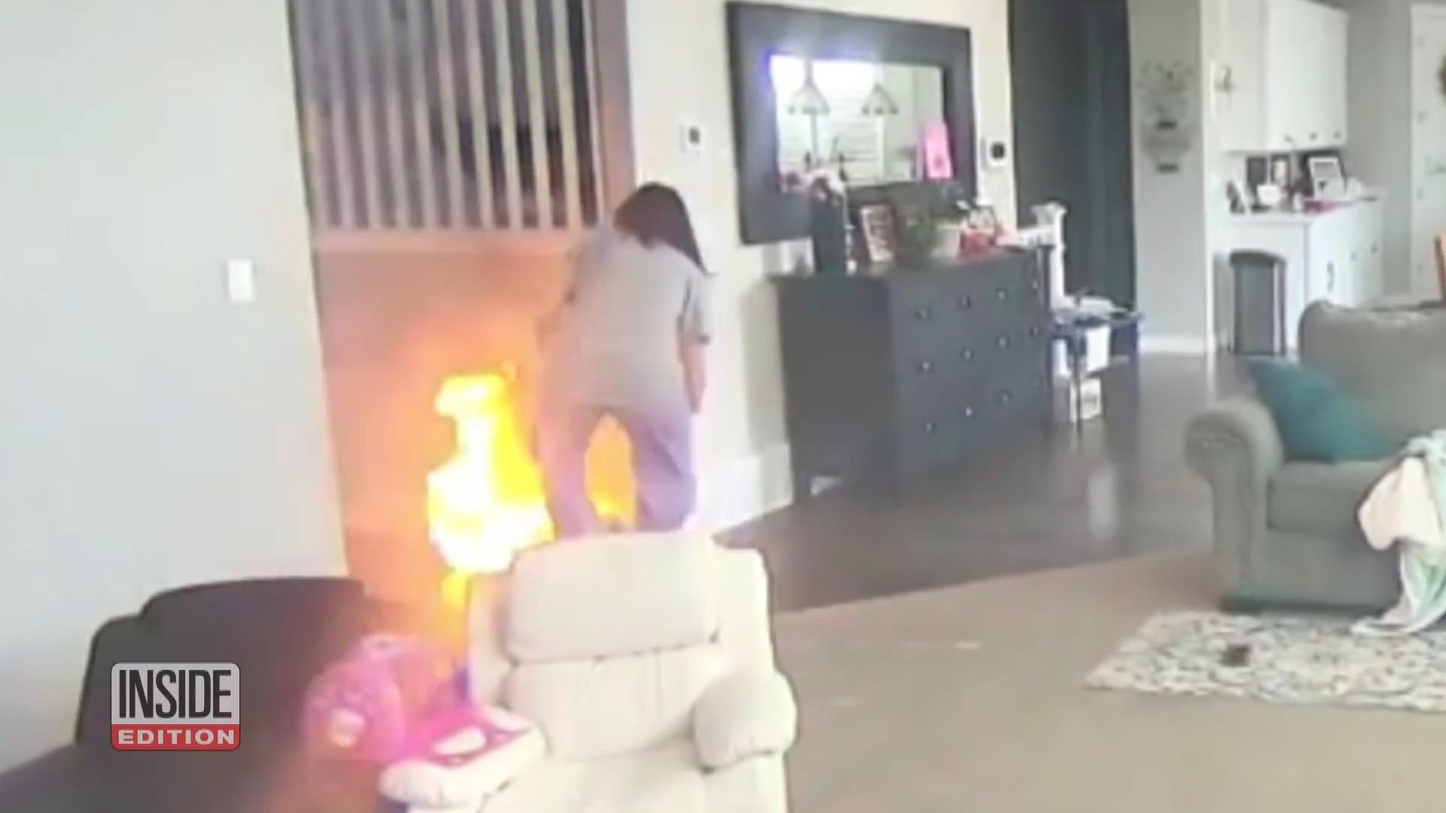fire: (425, 371, 553, 575)
